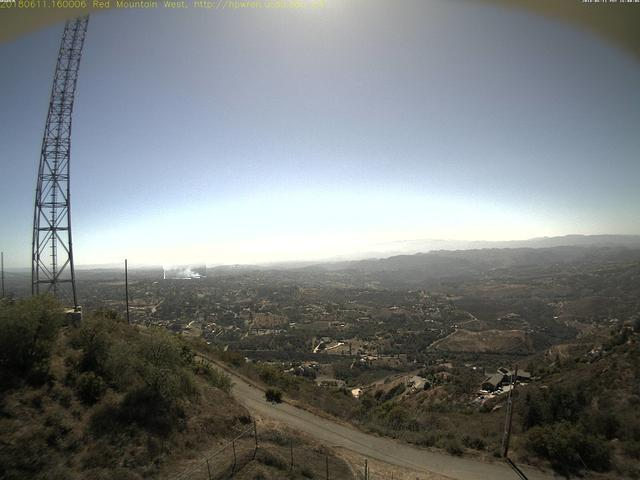smoke: (165, 257, 208, 280)
